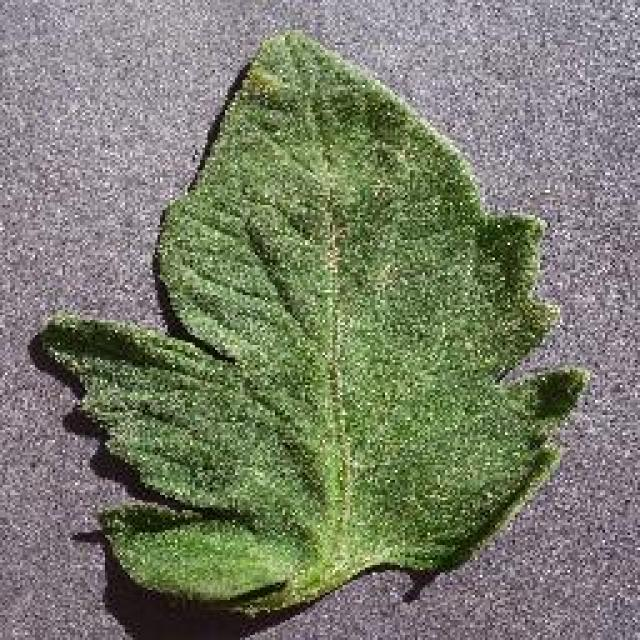Tomato___healthy: (37, 30, 595, 620)
